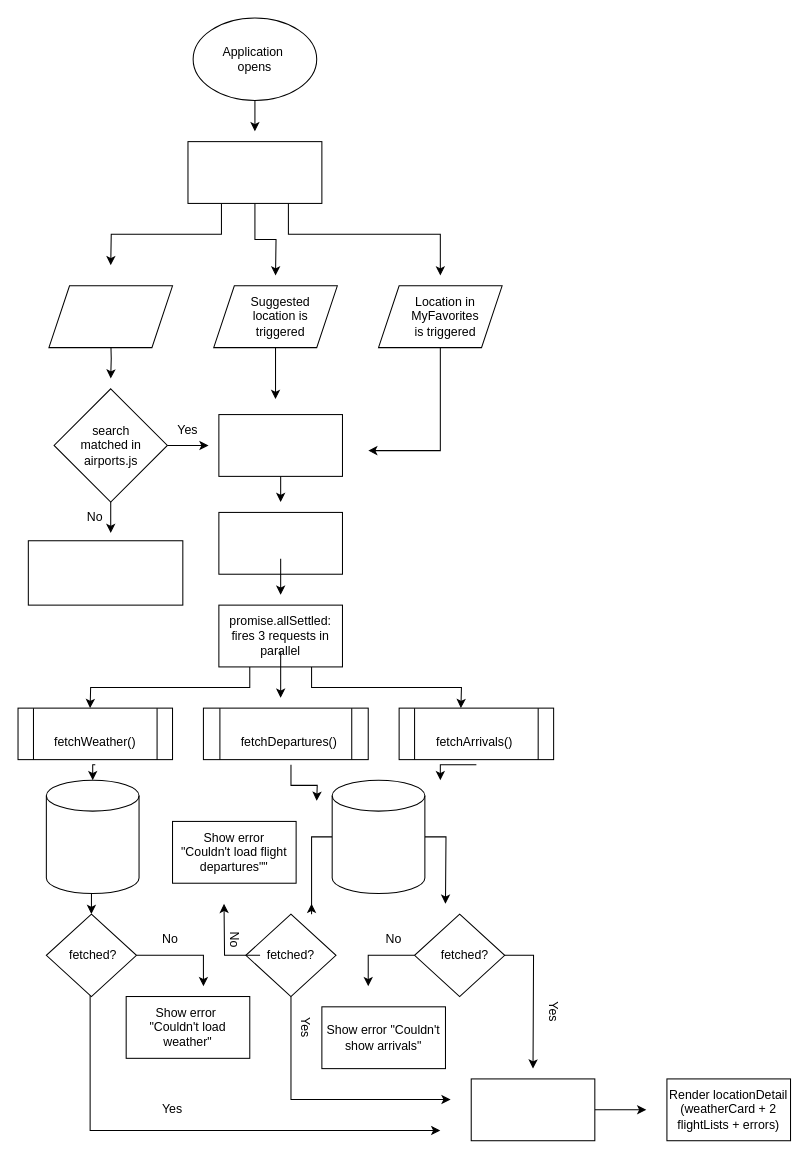
Image size: 809x1159. Some labels were removed from this diagram. The shapes that lost their labels are listed below. From the top down, each one's centre as x and y in pixels, then its label:
[254,172]: Home page renders SearchBar /Suggested
[110,316]: Search is triggered
[280,445]: Nav to location/:iata
[280,542]: locationDetail mounts + adRecent(airport)
[105,572]: Show error "We couldnt find that locaiton"
[92,836]: WeatherAPI
[378,836]: AviationAPI
[532,1109]: setState({ weather, arrivals, departures, errors, loading })
